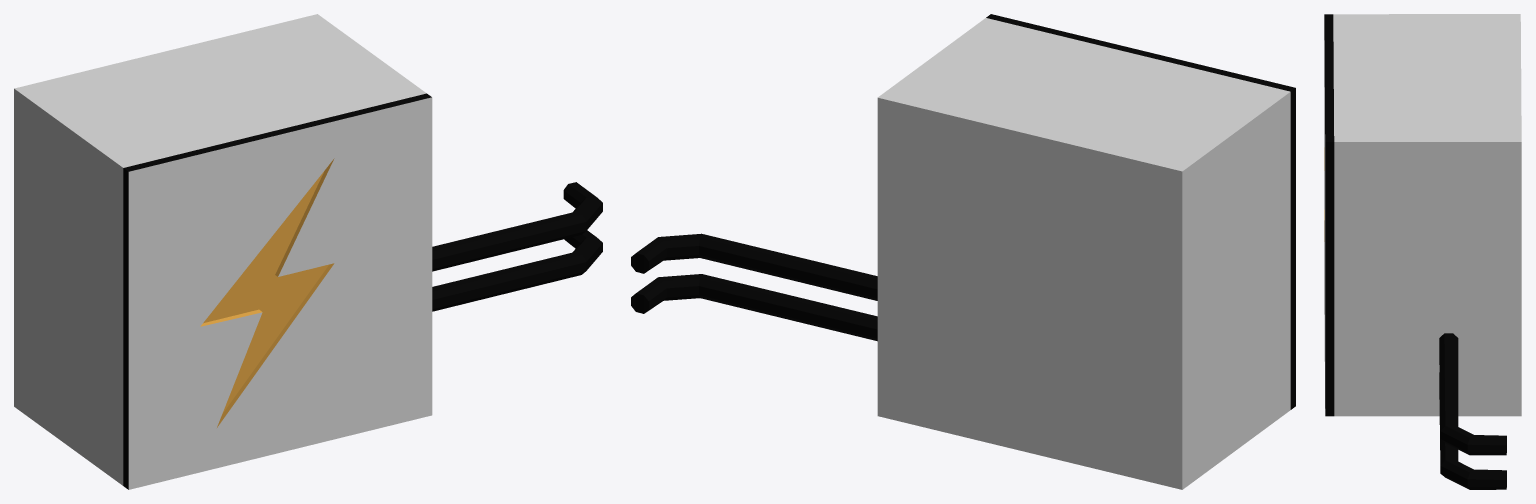
Rendered from power.fbx.
The picture shows the model from 3 angles, left to right: view 1: azimuth 30°, elevation 25°; view 2: azimuth 150°, elevation 25°; view 3: azimuth 270°, elevation 25°; orthographic projection. The views are drawn at different scales.
Parts seen in each view (by area): view 1: power; view 2: power; view 3: power.
Part boxes in pixels (x1,y1,x2,y2): power: (14, 14, 602, 489); power: (631, 14, 1295, 489); power: (1324, 14, 1521, 489).
Bounding box in the file's own units: 9.03 × 3.2 × 4.91.
